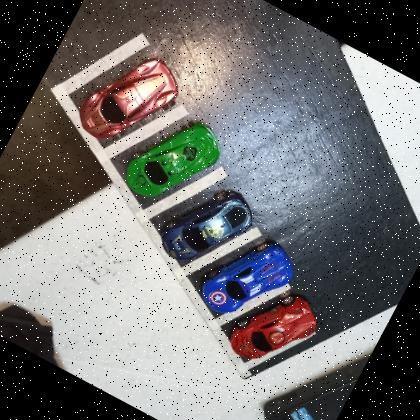Car: (69, 34, 191, 165), (116, 100, 230, 221), (192, 220, 304, 337), (152, 169, 262, 284), (222, 276, 326, 384)
